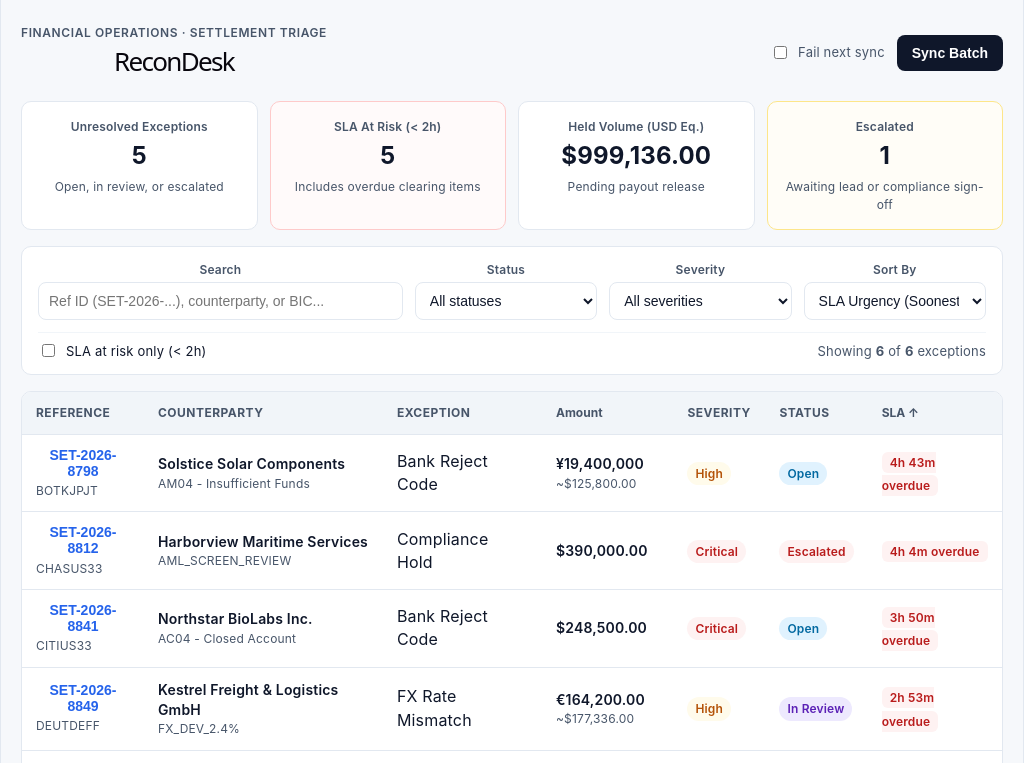
Test case: ReconDesk triage workflow › loads exceptions, supports search and filtering, and shows empty state with reset
Expected: the button "SET-2026-8841" is shown, [36,602,130,634]
Step 1. Type "Northstar" into the search field labelled "Search" → [220, 301], box [38,282,403,320]
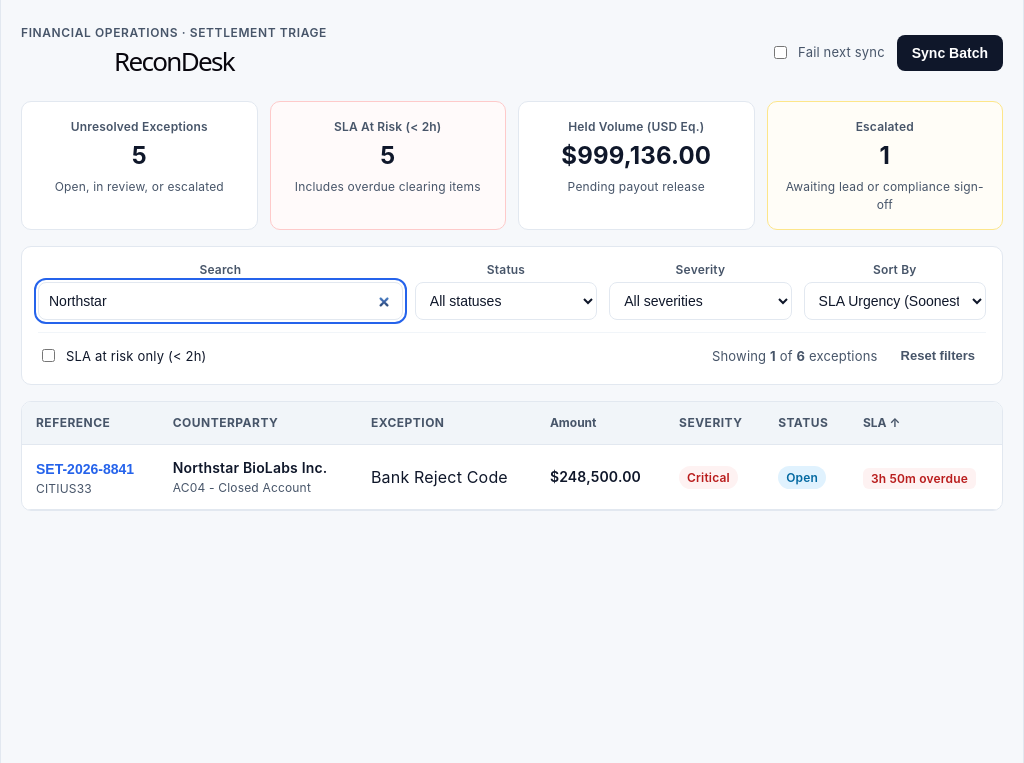
Expected: the text "Northstar BioLabs Inc." is shown, [173,458,343,479]
Expected: the text "Harborview Maritime Services" is gone
Step 2. Type "nonexistent-ref-999" into the search field labelled "Search" → [220, 301], box [38,282,403,320]
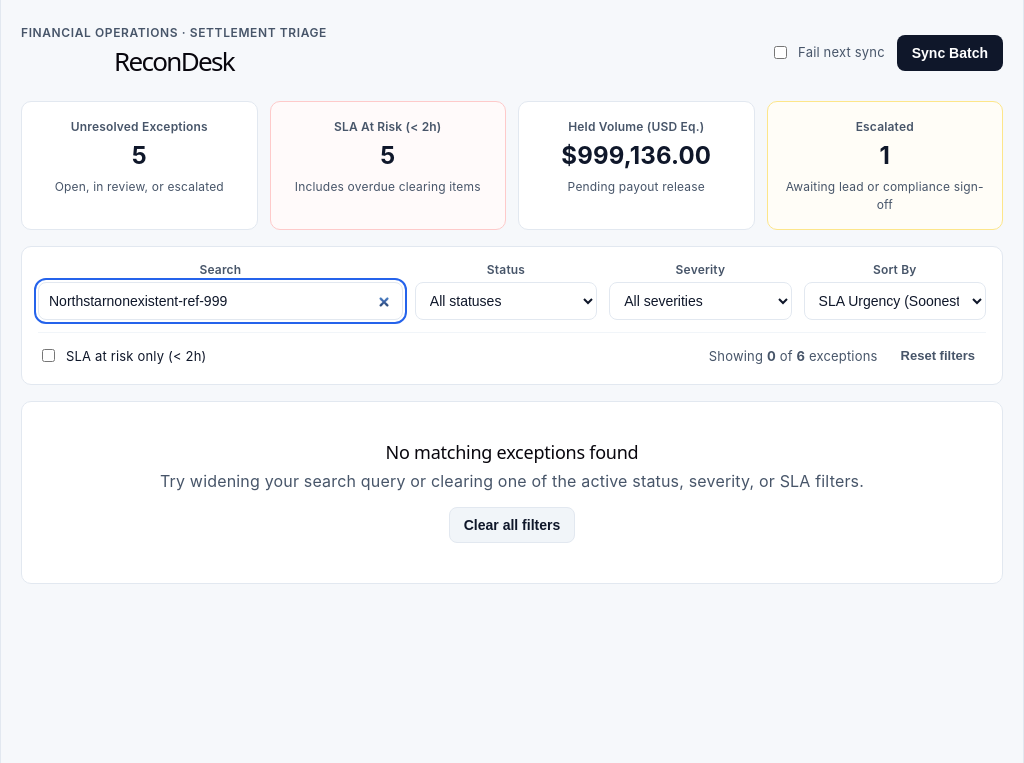
Expected: the heading "No matching exceptions found" is shown, [386,440,638,464]
Step 3. Click the button "Clear all filters" → [512, 525], box [449,507,575,543]
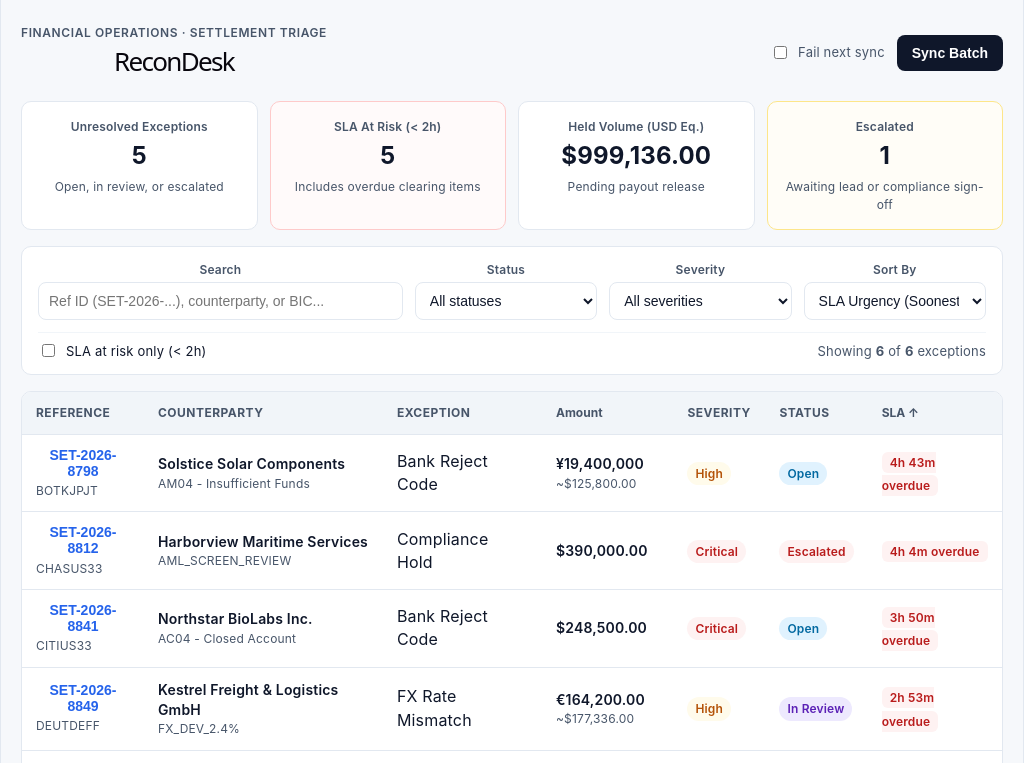
Expected: the text "Harborview Maritime Services" is shown, [158,532,369,552]
